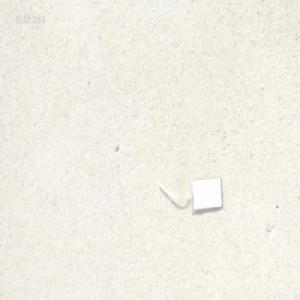LuggageTag: (152, 171, 223, 213)
